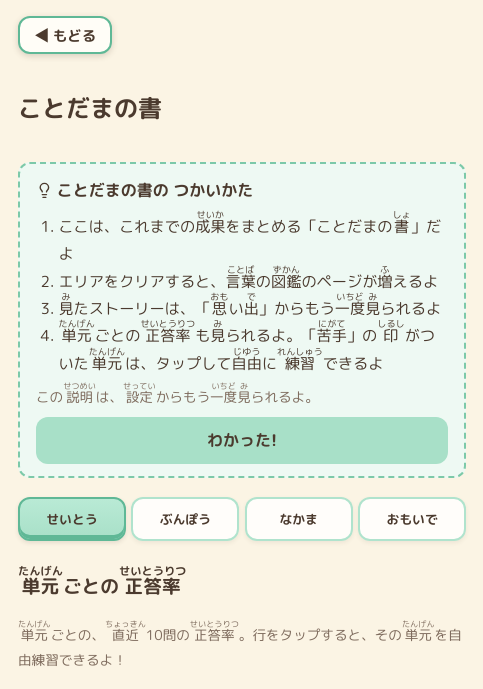
Test: ことだまの書: 初回の使い方ガイド › 「わかった!」で閉じて既読になり、次に開いたときは出ない
This screenshot has width=483, height=689.
Step 1. Click the button "わかった!" → (242, 441), box left=36, top=417, right=448, bottom=464
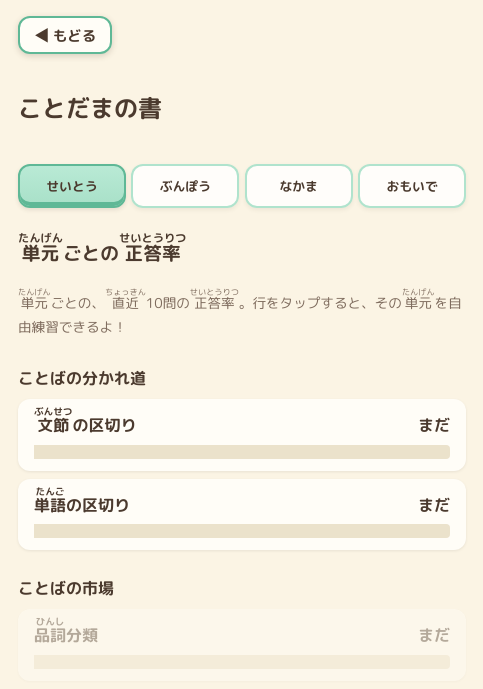
Check: the element with class "engine-guide" is gone
